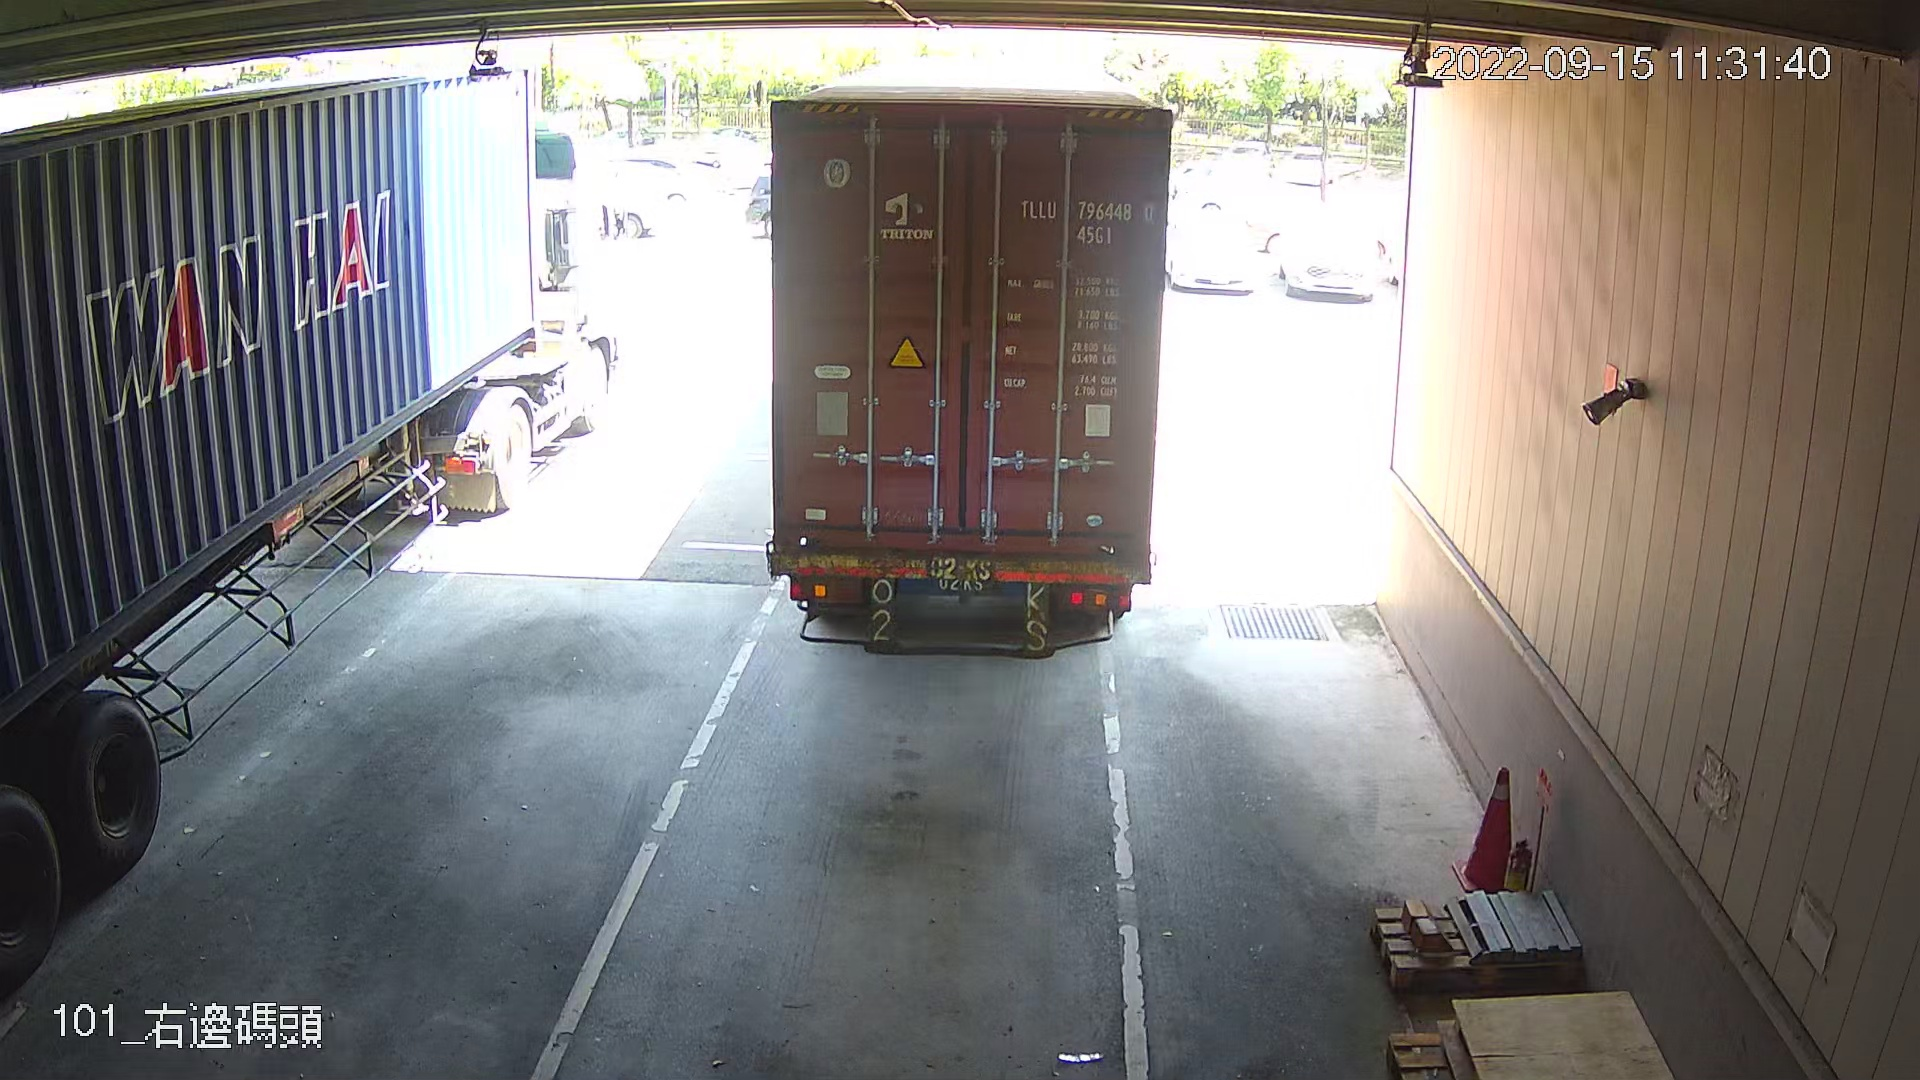container: (1011, 191, 1159, 248)
